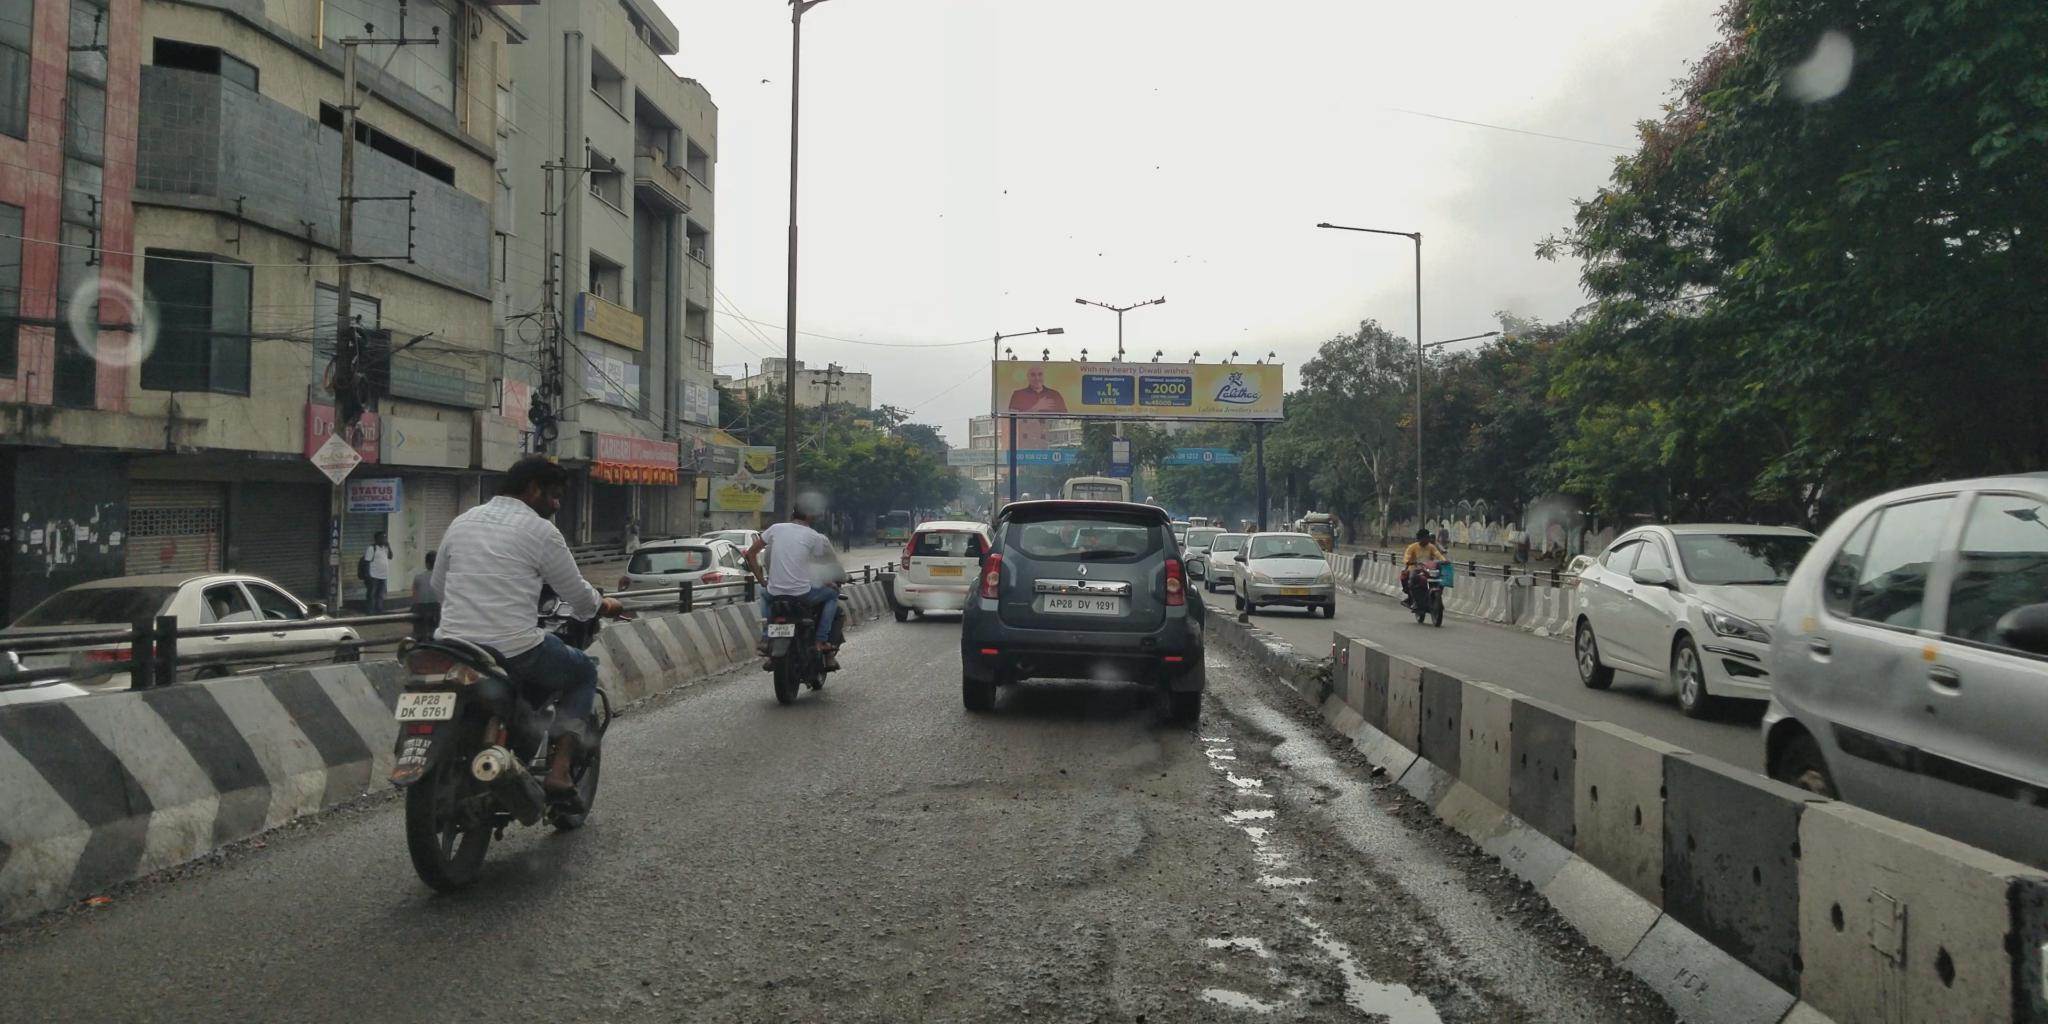off: (0, 0, 2048, 943)
